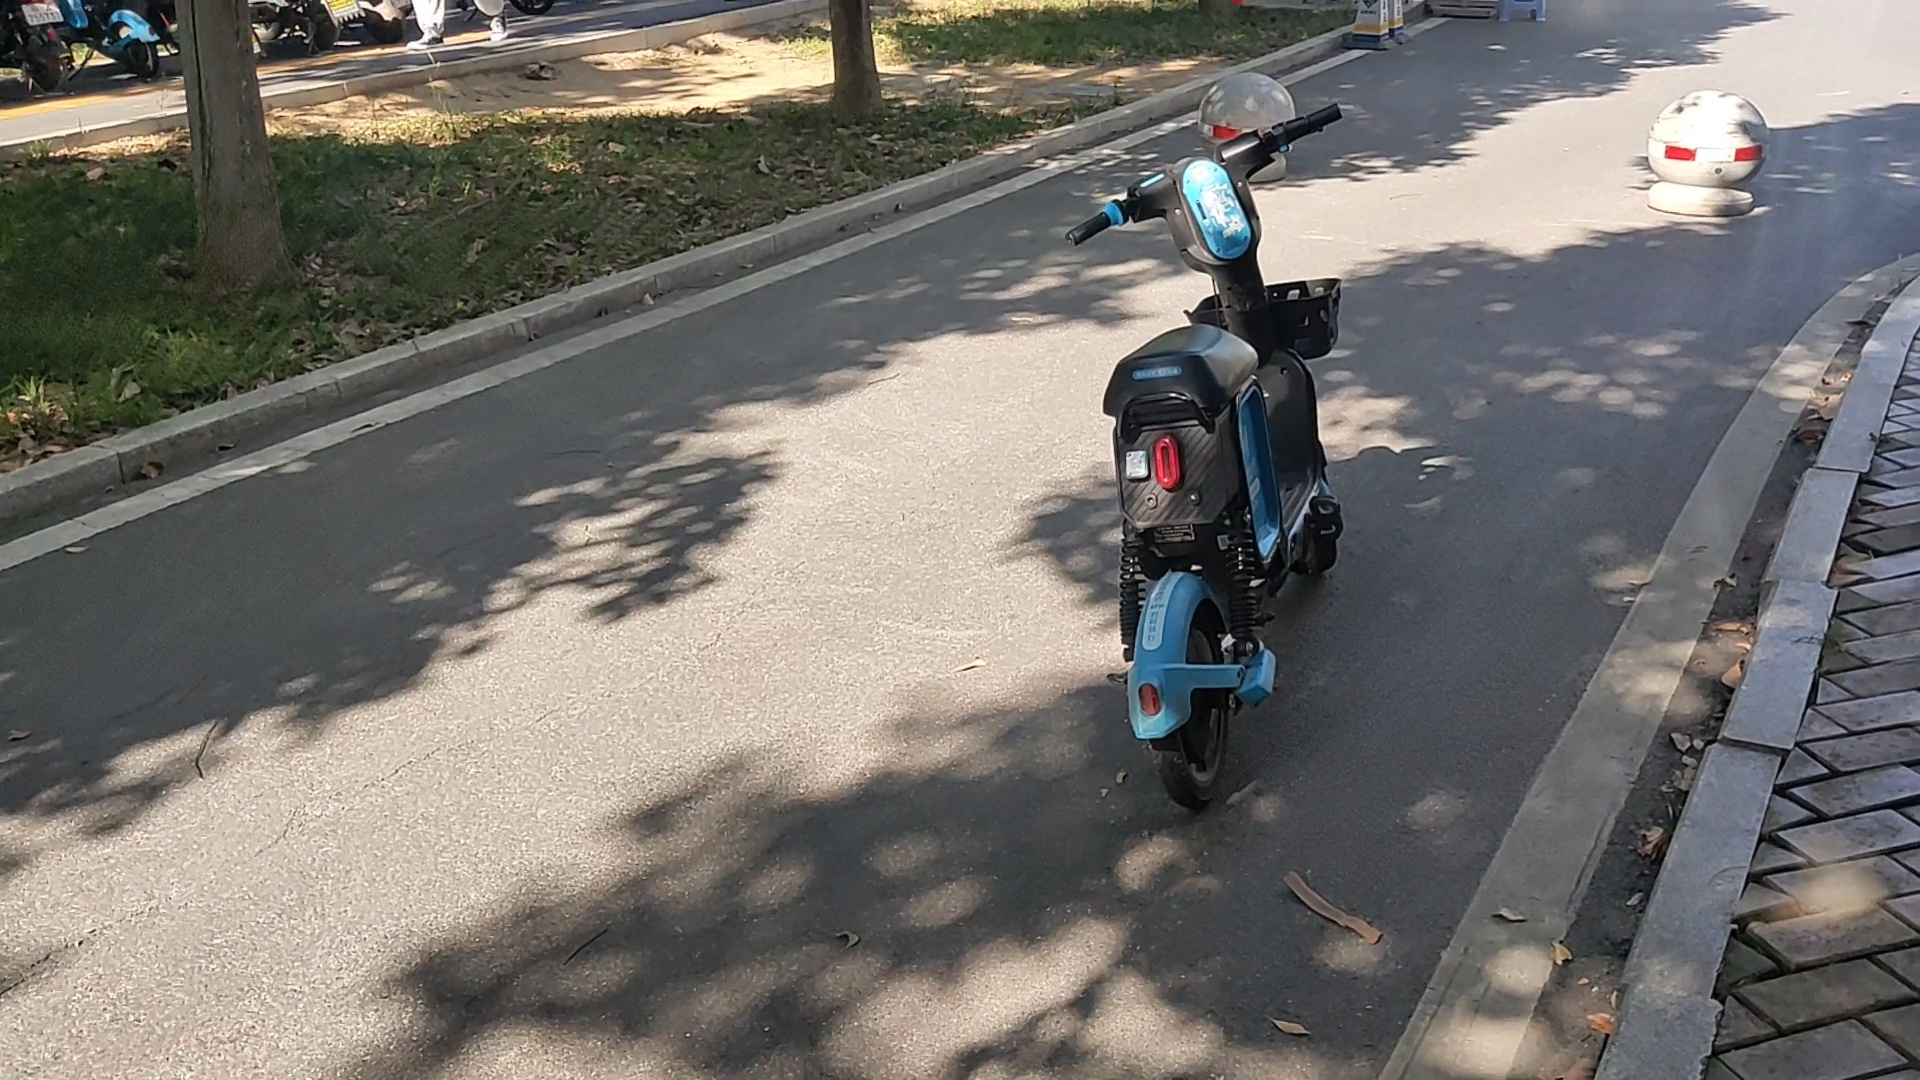non-vehicle: (1068, 40, 1341, 829), (0, 0, 79, 98), (247, 1, 340, 61)
